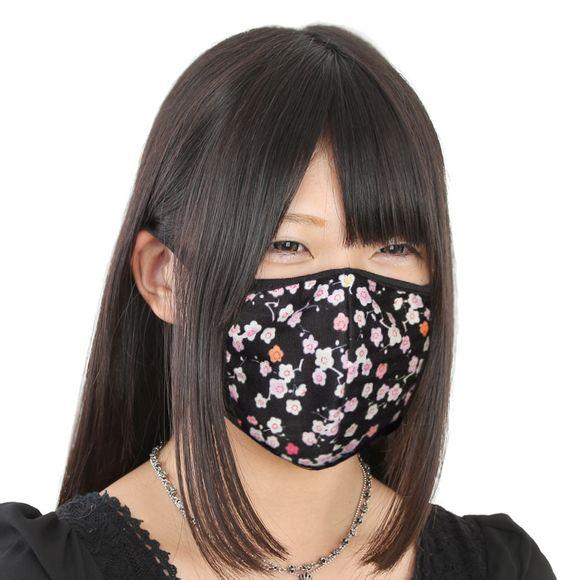OK: (201, 203, 445, 447)
